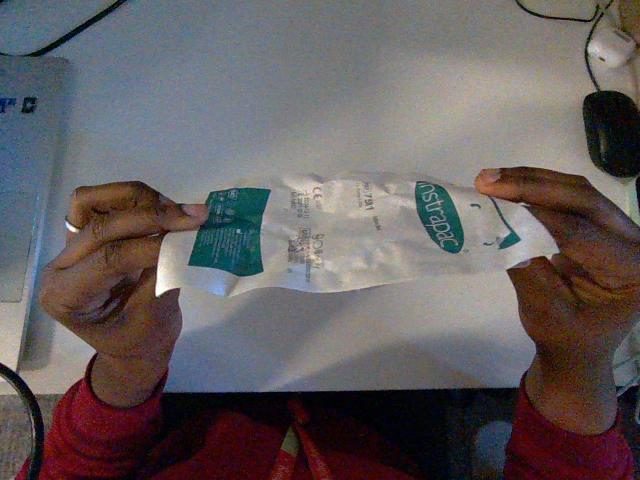gallipot: (156, 173, 557, 295)
